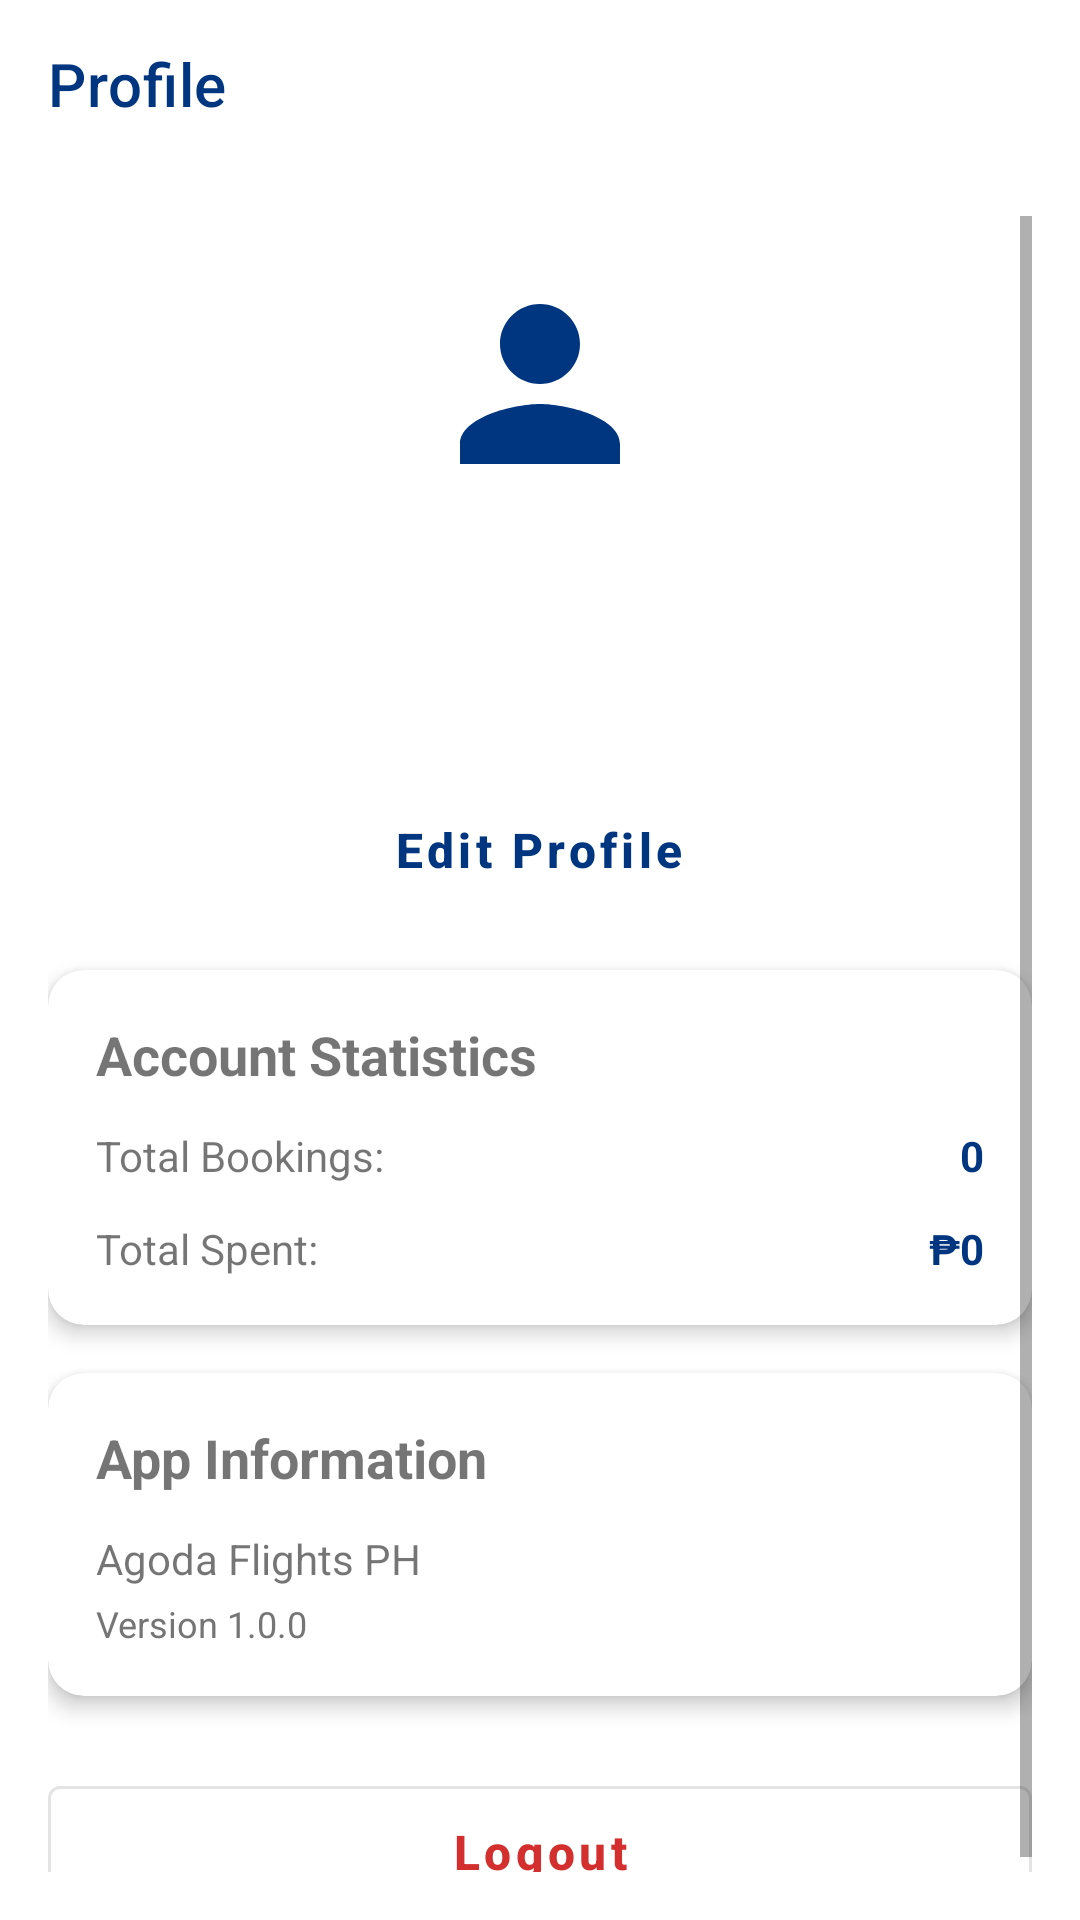

Named icons in this screenshot (1080 x 1920) and their bounding boxes, (x1, y1, x2, y2):
profile: (460, 304, 620, 464)
